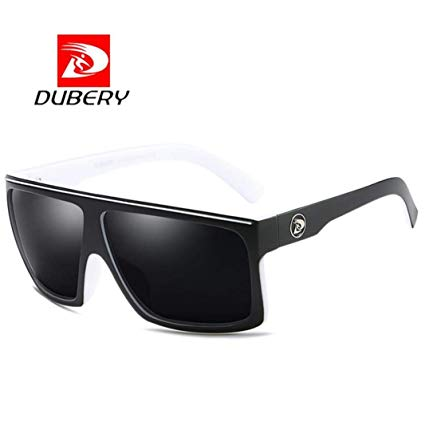sunglasses: (4, 150, 416, 341)
